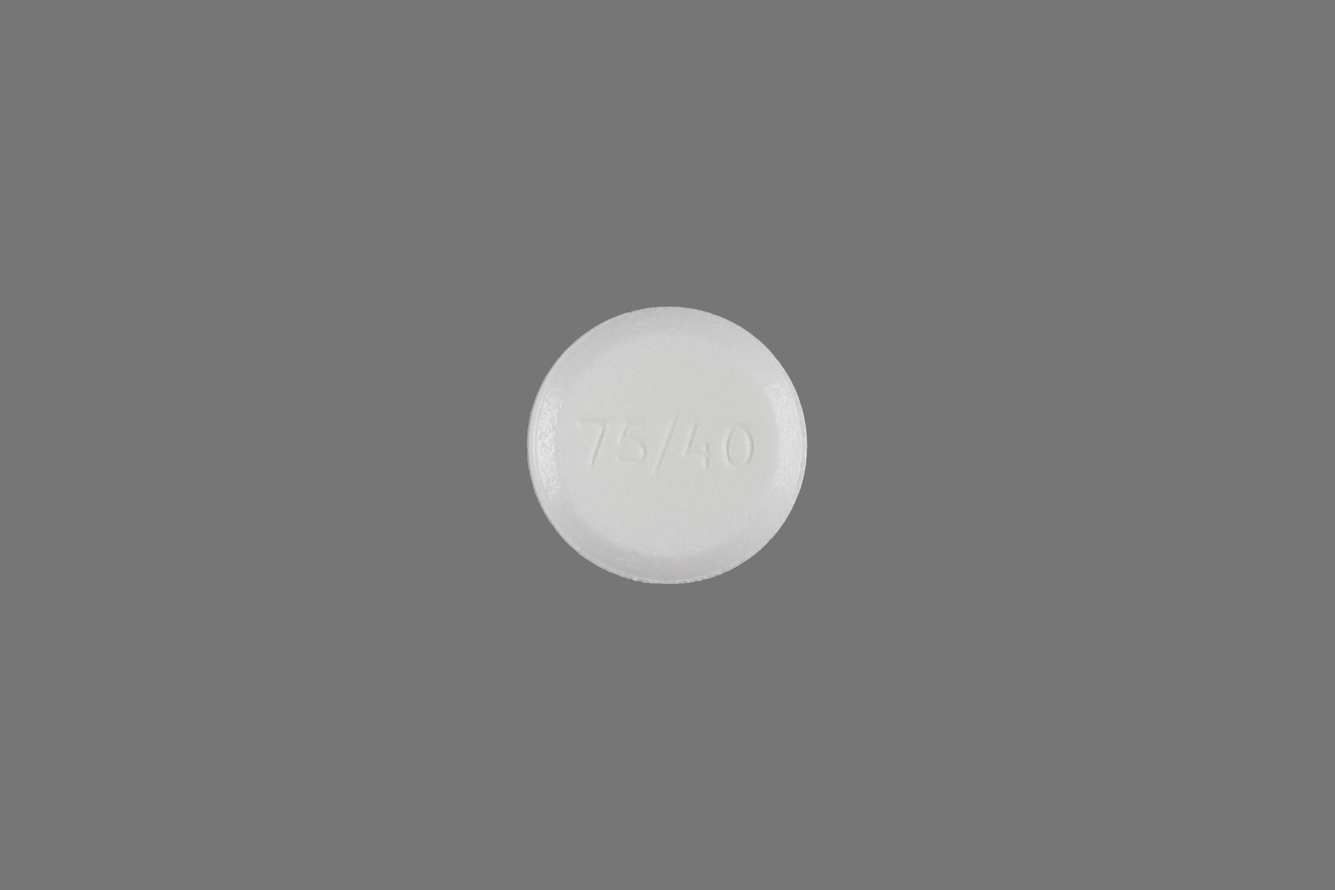Pill: (517, 297, 815, 594)
